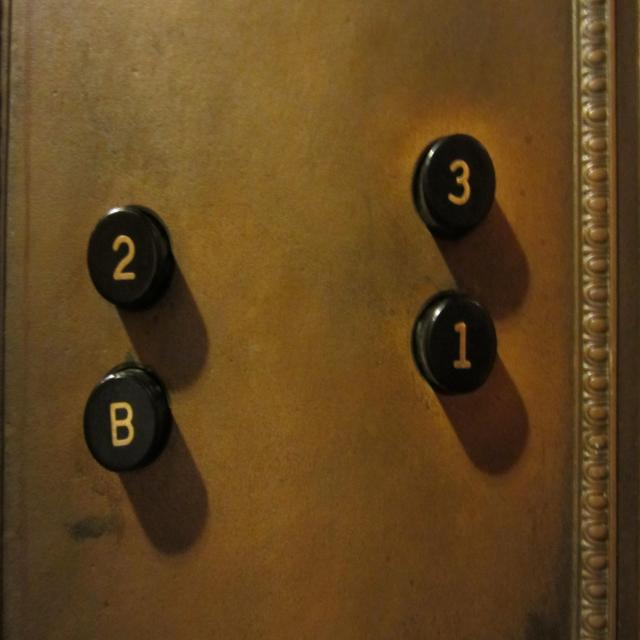1: (408, 282, 500, 401)
2: (84, 200, 176, 317)
3: (408, 129, 497, 243)
B: (78, 364, 173, 476)
